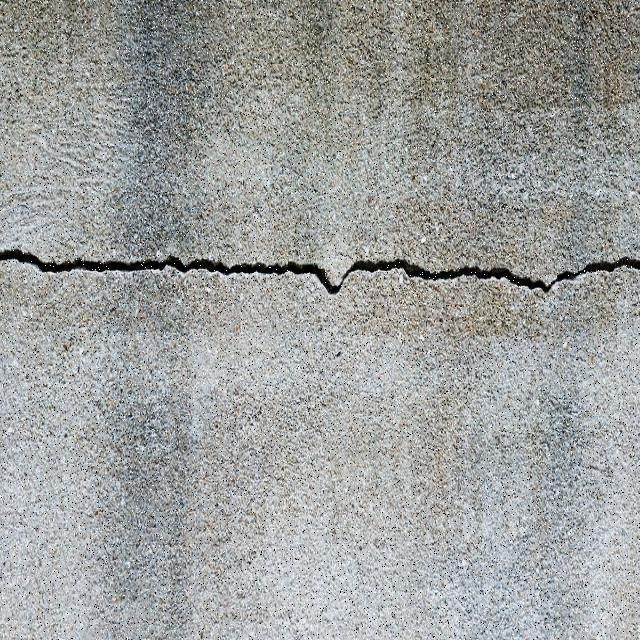minor crack: (4, 248, 155, 273), (260, 258, 338, 291)
moderate crack: (558, 445, 625, 480)
severe crack: (0, 282, 339, 637), (333, 324, 640, 636), (314, 4, 640, 261), (2, 2, 323, 262), (7, 257, 640, 301), (438, 262, 536, 287), (342, 255, 425, 278), (173, 256, 250, 277), (566, 256, 634, 277), (548, 266, 581, 285), (322, 279, 341, 295), (538, 279, 556, 295)
